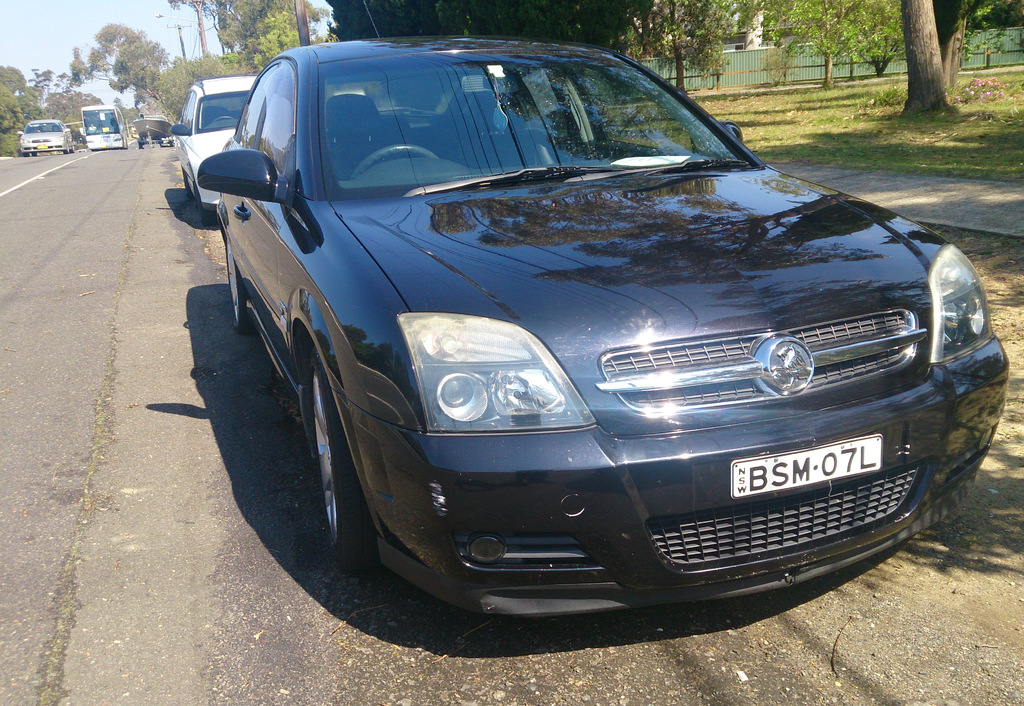mobil: (182, 26, 1018, 653)
